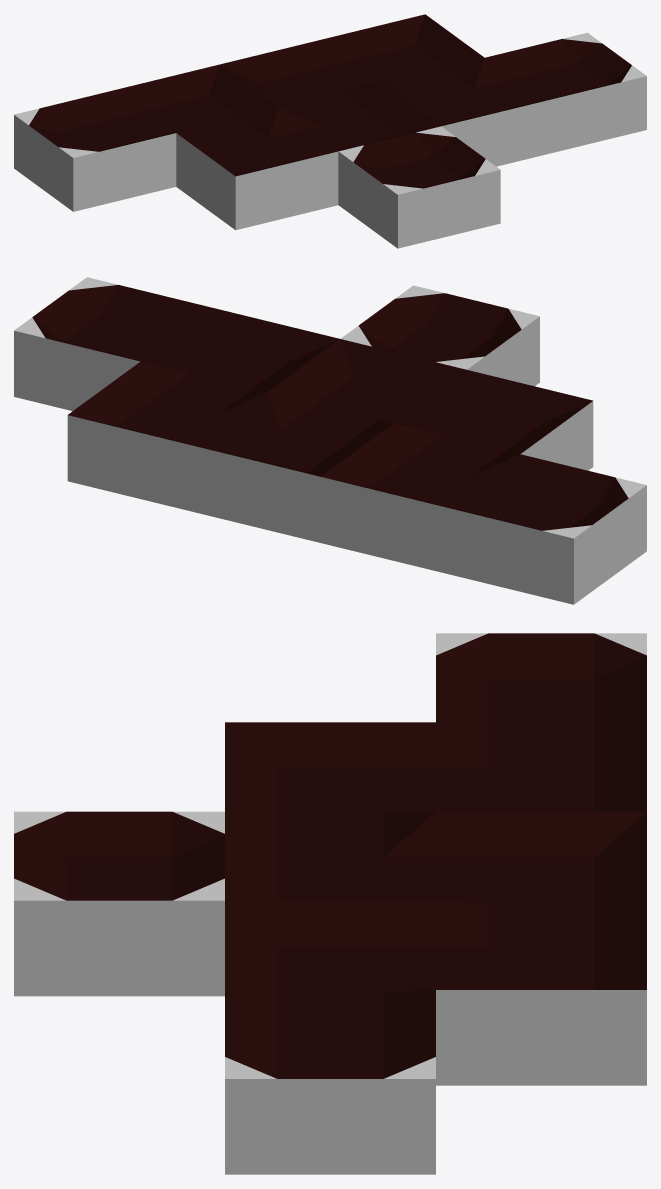
File: 5s_path.obj
3 views of the same model, one above another, from view 1: azimuth 30°, elevation 25°; view 2: azimuth 150°, elevation 25°; view 3: azimuth 270°, elevation 25° (orthographic). The views are drawn at different scales.
Visible parts, largest first — view 1: hole.2.2_Cube.009, ending.0.4_ending.017, corner.1.3_corner.043, ending.4.3_ending.018, corner.3.3_corner.047, corner.3.4_corner.048, corner.1.4_corner.044, corner.2.4_corner.046, corner.2.3_corner.045; view 2: ending.0.4_ending.017, corner.1.4_corner.044, corner.3.4_corner.048, ending.4.3_ending.018, corner.2.4_corner.046, corner.1.3_corner.043, hole.2.2_Cube.009, corner.2.3_corner.045, corner.3.3_corner.047; view 3: hole.2.2_Cube.009, corner.3.4_corner.048, ending.4.3_ending.018, corner.3.3_corner.047, corner.2.4_corner.046, corner.1.3_corner.043, ending.0.4_ending.017, corner.1.4_corner.044, corner.2.3_corner.045.
Boxes of the visible parts, box(x1,y1,x2,y2) form: hole.2.2_Cube.009: box(338, 126, 500, 248); ending.0.4_ending.017: box(14, 89, 176, 211); corner.1.3_corner.043: box(176, 108, 338, 230); ending.4.3_ending.018: box(485, 32, 646, 154); corner.3.3_corner.047: box(382, 58, 543, 166); corner.3.4_corner.048: box(322, 14, 484, 89); corner.1.4_corner.044: box(117, 64, 278, 139); corner.2.4_corner.046: box(220, 39, 381, 114); corner.2.3_corner.045: box(279, 83, 440, 153); ending.0.4_ending.017: box(447, 454, 646, 604); corner.1.4_corner.044: box(320, 423, 519, 573); corner.3.4_corner.048: box(67, 361, 266, 511); ending.4.3_ending.018: box(14, 277, 213, 410); corner.2.4_corner.046: box(194, 392, 393, 542); corner.1.3_corner.043: box(394, 370, 593, 470); hole.2.2_Cube.009: box(340, 285, 539, 386); corner.2.3_corner.045: box(267, 339, 466, 431); corner.3.3_corner.047: box(141, 308, 339, 401); hole.2.2_Cube.009: box(14, 811, 224, 996); corner.3.4_corner.048: box(436, 901, 646, 1085); ending.4.3_ending.018: box(225, 990, 435, 1174); corner.3.3_corner.047: box(225, 900, 435, 1013); corner.2.4_corner.046: box(436, 811, 646, 924); corner.1.3_corner.043: box(225, 722, 435, 835); ending.0.4_ending.017: box(436, 633, 646, 746); corner.1.4_corner.044: box(436, 722, 646, 811); corner.2.3_corner.045: box(225, 811, 435, 900).
Size of the model in its own units: 10 by 1 by 6.
